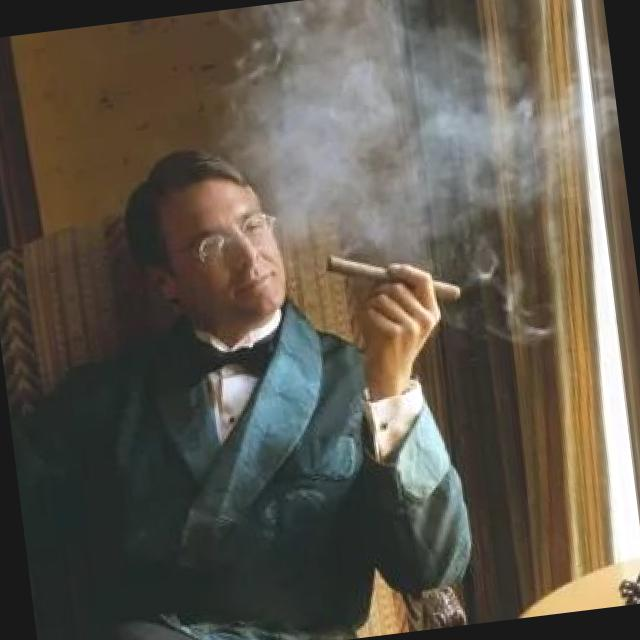cigarette: (320, 235, 465, 319)
